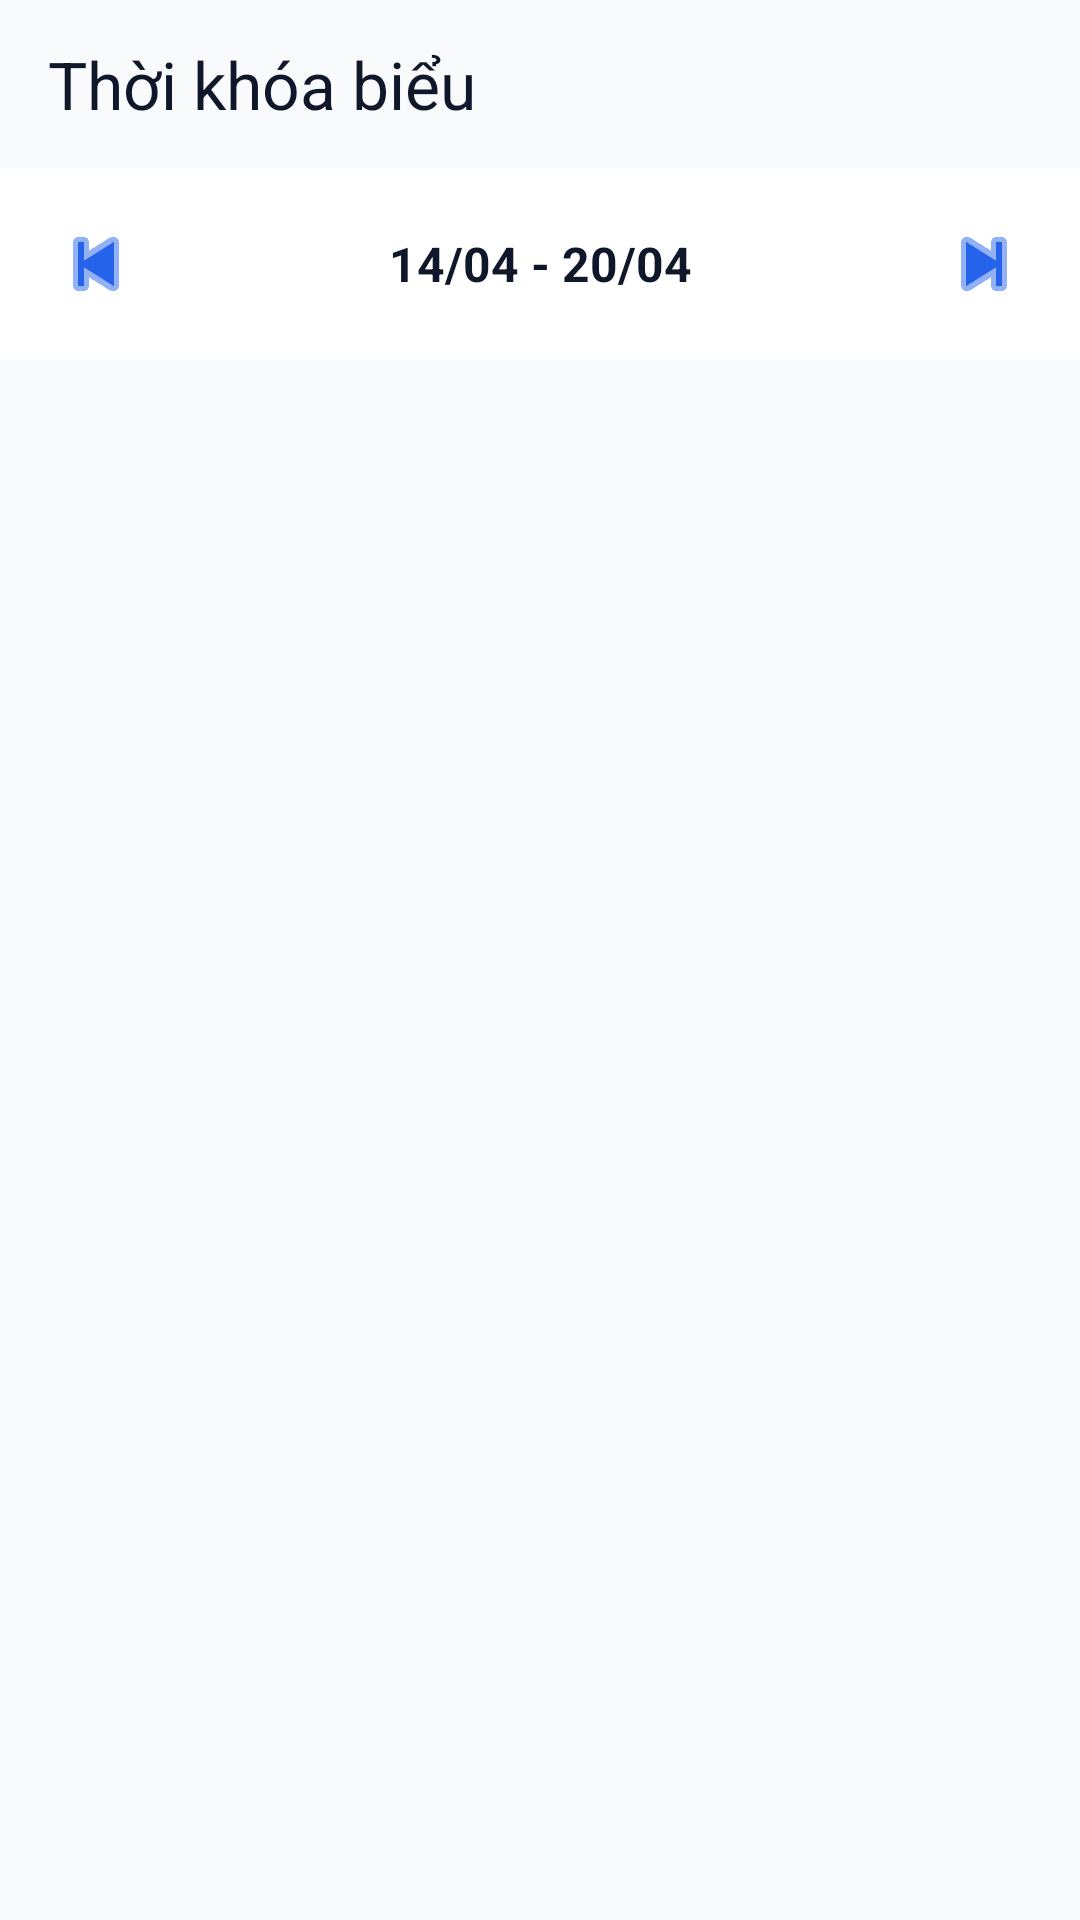

Icons on this 1080px x 1920px Android screen, each with the point to tap as point (x, y):
next: point (984, 264)
previous: point (96, 264)
